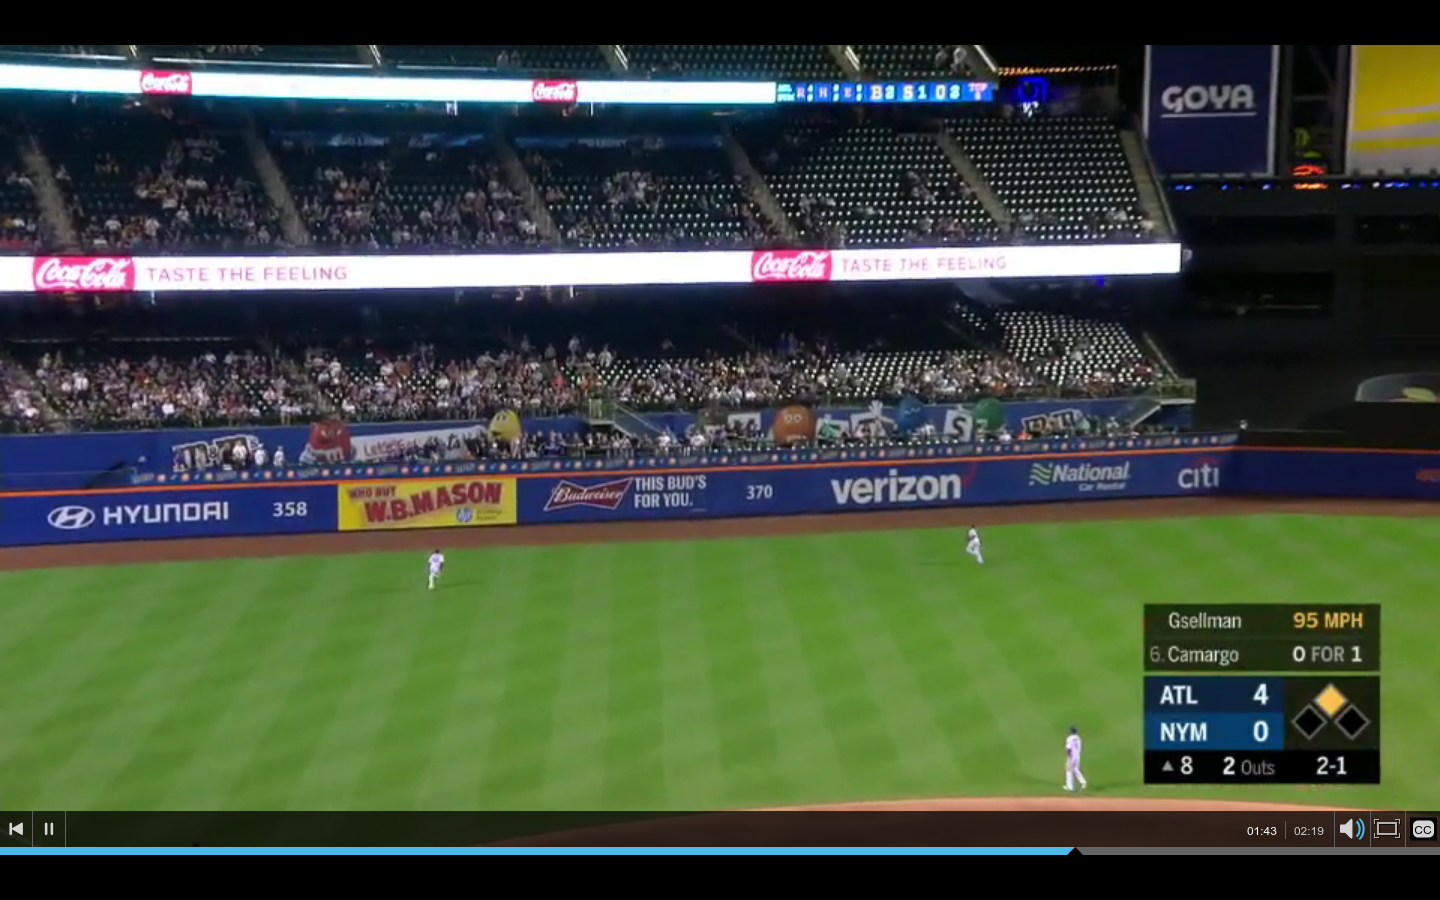baseball player: (1058, 720, 1093, 799), (418, 542, 452, 596), (961, 522, 987, 569)
